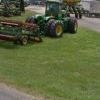Tractor: (19, 1, 93, 40)
